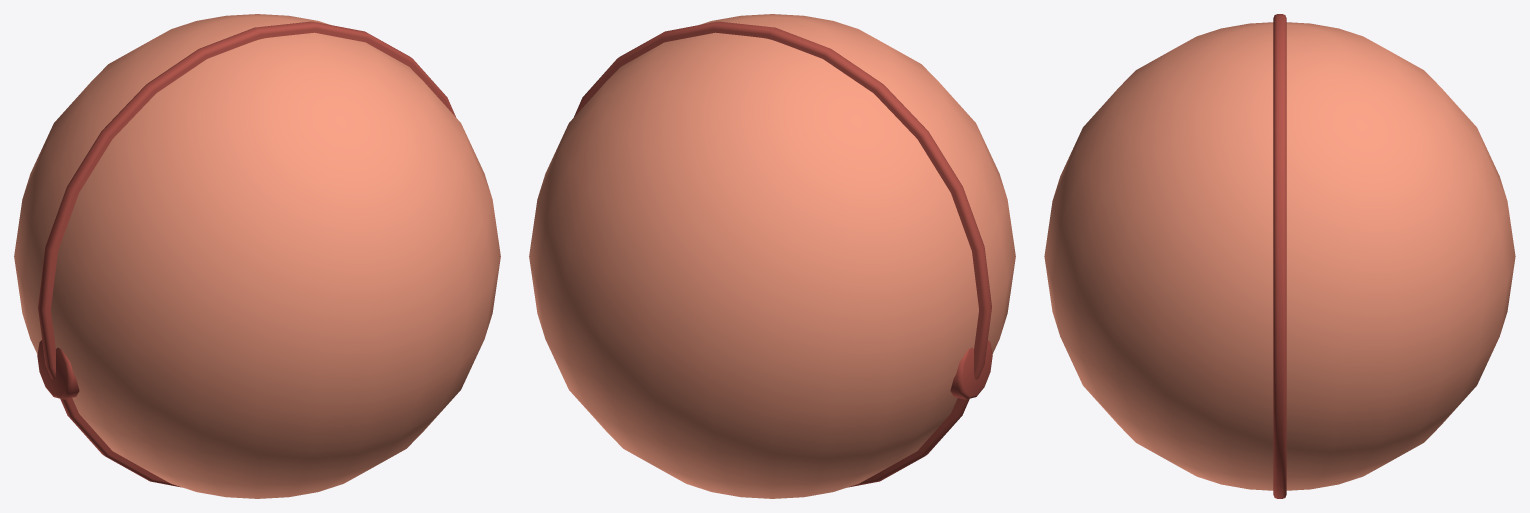
The model's file is Idol_Rubber_Ball.glb.
3 views of the same model, side by side, from view 1: azimuth 30°, elevation 25°; view 2: azimuth 150°, elevation 25°; view 3: azimuth 270°, elevation 25° (orthographic). The views are drawn at different scales.
Visible parts, largest first — view 1: Idol_Rubber_Ball; view 2: Idol_Rubber_Ball; view 3: Idol_Rubber_Ball.
Boxes of the visible parts, left/top/right/bottom form: Idol_Rubber_Ball: left=14, top=14, right=500, bottom=498; Idol_Rubber_Ball: left=529, top=14, right=1015, bottom=498; Idol_Rubber_Ball: left=1044, top=14, right=1515, bottom=498.
Size of the model in its own units: 0.744 by 0.744 by 0.72.
